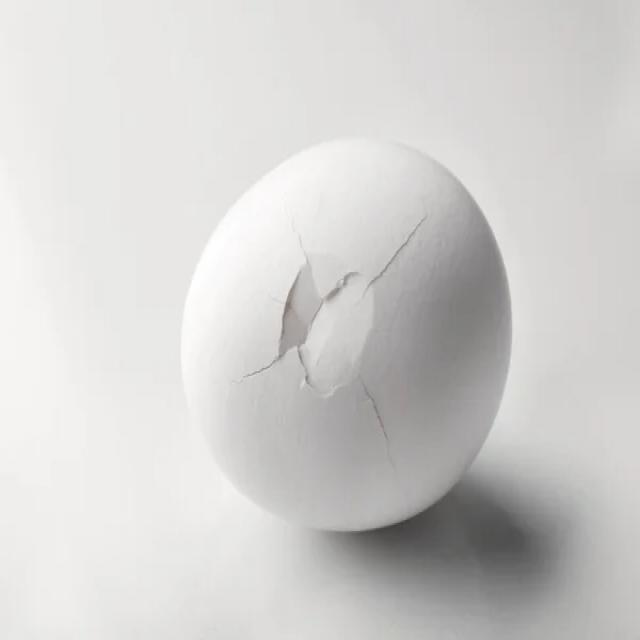biodegradable: (164, 145, 528, 537)
